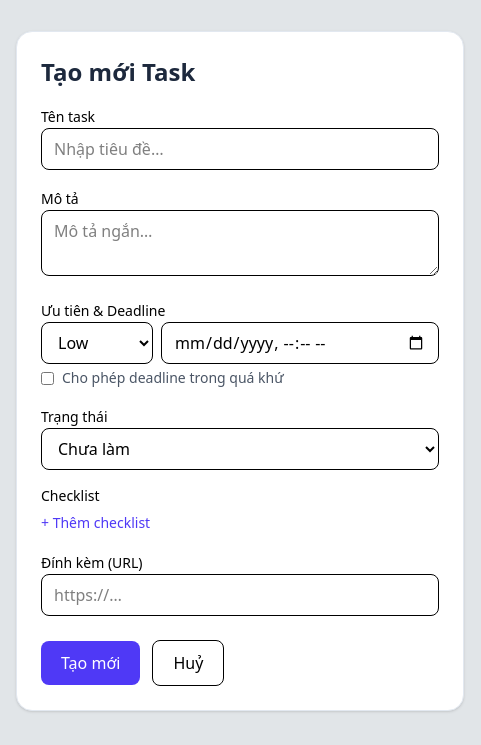
Scenario: CreateTask (RHF version) › Render form và báo lỗi khi thiếu tiêu đề hoặc deadline
Click the button "Tạo mới".
click(91, 663)  # box [41,641,140,685]
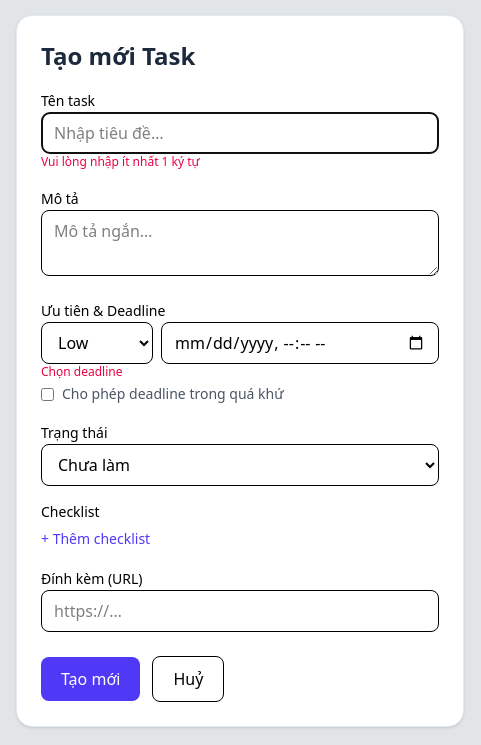
Expected: the text "Vui lòng nhập ít nhất 1 ký tự" is shown, [41,153,200,170]
Expected: the text "Chọn deadline" is shown, [41,363,122,380]
